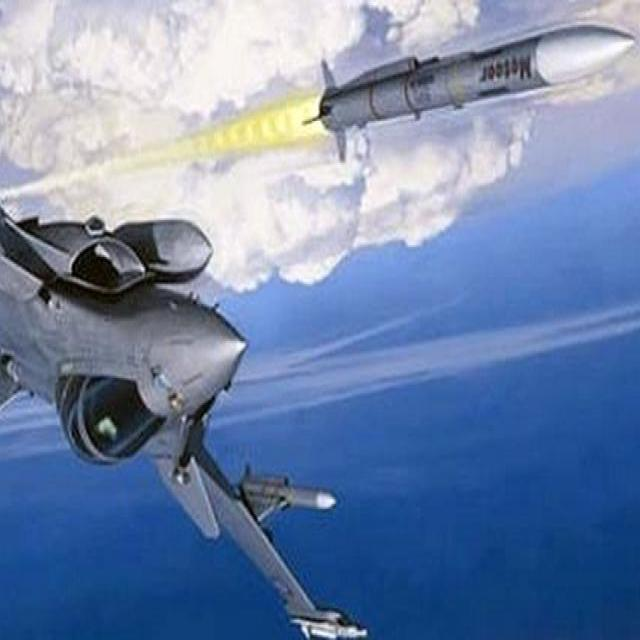missile: (296, 19, 637, 164), (229, 456, 344, 533)
